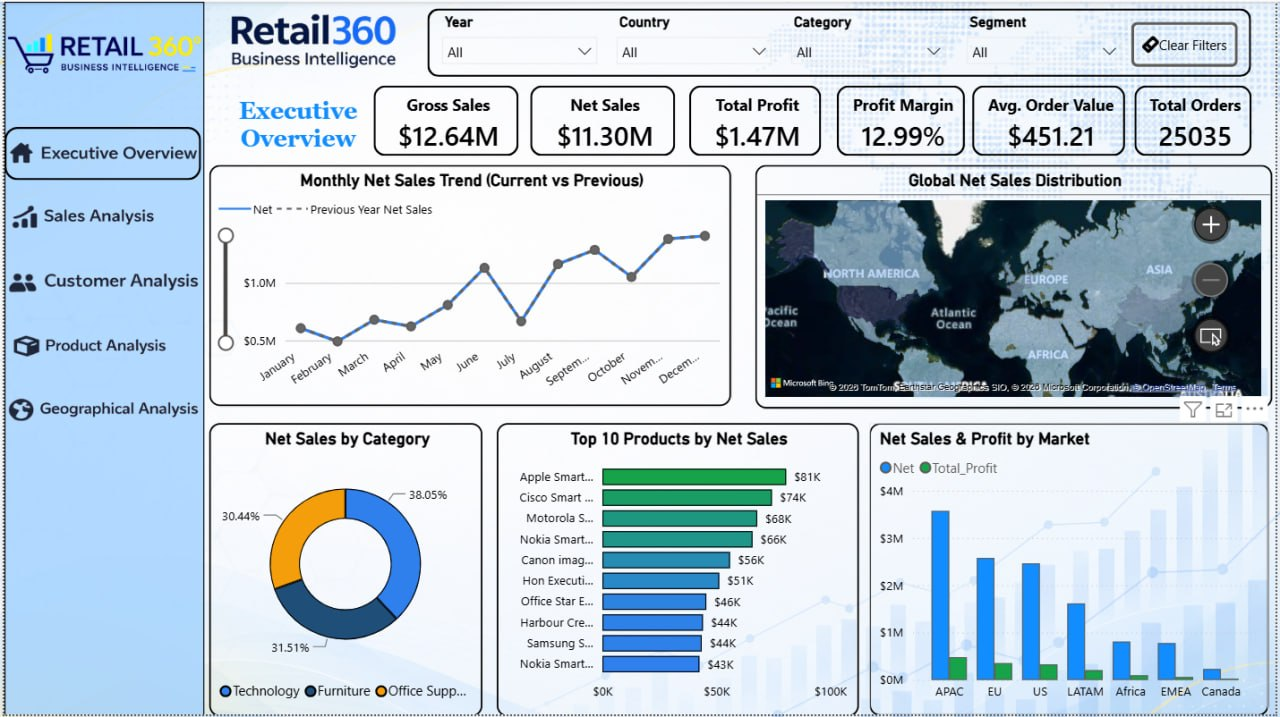

The dashboard page shown, as its layout file describes it:
{"tool":"powerbi","page":{"name":"Executive Overview","canvas":[1280,720],"ordinal":0},"visuals":[{"type":"cardVisual","fields":{"Data":["Measure_Table.Gross"]},"box":[355.6,67.6,180,105],"z":0},{"type":"cardVisual","fields":{"Data":["Measure_Table.Net"]},"box":[512.8,67.6,180,105],"z":1000},{"type":"cardVisual","fields":{"Data":["Measure_Table.Total_Profit"]},"box":[673,67.6,167.5,105],"z":2000},{"type":"cardVisual","fields":{"Data":["Measure_Table.Total Orders"]},"box":[1121.1,67.6,152.8,105],"z":3000},{"type":"cardVisual","fields":{"Data":["Measure_Table.Avg_order_value"]},"box":[958,67.6,188.1,105],"z":4000},{"type":"cardVisual","fields":{"Data":["Measure_Table.Profit Margin"]},"box":[821.4,67.6,163.1,105],"z":5000},{"type":"lineChart","title":"Monthly Net Sales Trend (Current vs Previous)","fields":{"Y":["Measure_Table.Net","Measure_Table.Previous Year Sales"],"Category":["DateTable.Month Name"]},"box":[206.6,164.6,525.8,243.6],"z":6000},{"type":"filledMap","title":"Global Net Sales Distribution","fields":{"Category":["Geography.Market Hierarchy.Region","Geography.Market Hierarchy.Country","Geography.Market Hierarchy.State","Geography.Market Hierarchy.City","Geography.Market Hierarchy.Postal Code"]},"box":[755.9,164.6,520.7,245.2],"z":7000},{"type":"donutChart","title":"Net Sales by Category","fields":{"Category":["Product.Category"],"Y":["Measure_Table.Net"]},"box":[206.6,425,275.5,295.6],"z":8000},{"type":"clusteredBarChart","title":"Top 10 Products by Net Sales","fields":{"Y":["Measure_Table.Net"],"Category":["Product.Product Name"]},"box":[495.5,425,364.5,295.6],"z":9000},{"type":"clusteredColumnChart","title":"Net Sales & Profit by Market","fields":{"Category":["Geography.Market"],"Y":["Measure_Table.Net","Measure_Table.Total_Profit"]},"box":[871.3,424.7,402.6,295.3],"z":10000},{"type":"shape","box":[425.5,6.8,829.8,68.9],"z":11000},{"type":"slicer","fields":{"Values":["Customer.Country"]},"box":[606.7,6.8,176.4,68.9],"z":12000},{"type":"slicer","fields":{"Values":["DateTable.Year"]},"box":[430.7,6.8,176.3,57.3],"z":13000},{"type":"slicer","fields":{"Values":["Product.Category"]},"box":[782.7,6.8,176.4,68.9],"z":14000},{"type":"slicer","fields":{"Values":["Customer.Segment"]},"box":[958.7,6.8,176.4,68.9],"z":15000},{"type":"actionButton","box":[1134.7,20.5,107.5,45.4],"z":16000},{"type":"shape","box":[0,0,201.3,720],"z":17000},{"type":"image","box":[195.4,10.3,230.7,58.8],"z":18000},{"type":"textbox","box":[218.9,91.1,154.3,73.5],"z":19000},{"type":"shape","box":[0,125.8,198,53.6],"z":19500},{"type":"image","box":[0,0,201.3,105.8],"z":20000},{"type":"image","box":[0,120.5,201.3,64.7],"z":21000},{"type":"image","box":[0,249.8,201.3,64.7],"z":22000},{"type":"image","box":[0,379.1,201.3,64.7],"z":23000},{"type":"image","box":[0,314.4,201.3,64.7],"z":24000},{"type":"image","box":[0,185.1,201.3,64.7],"z":26000}]}

Visuals, with their boxes on the page's 1280x720 design canvas (x1, y1, x2, y2). These are canvas units, not pixel positions in the 1280x717 screenshot, which may show the page scaled, cropped or inside an application window:
cardVisual - Measure_Table.Gross: {"x1": 356, "y1": 68, "x2": 536, "y2": 173}
cardVisual - Measure_Table.Net: {"x1": 513, "y1": 68, "x2": 693, "y2": 173}
cardVisual - Measure_Table.Total_Profit: {"x1": 673, "y1": 68, "x2": 840, "y2": 173}
cardVisual - Measure_Table.Total Orders: {"x1": 1121, "y1": 68, "x2": 1274, "y2": 173}
cardVisual - Measure_Table.Avg_order_value: {"x1": 958, "y1": 68, "x2": 1146, "y2": 173}
cardVisual - Measure_Table.Profit Margin: {"x1": 821, "y1": 68, "x2": 984, "y2": 173}
"Monthly Net Sales Trend (Current vs Previous)" lineChart: {"x1": 207, "y1": 165, "x2": 732, "y2": 408}
"Global Net Sales Distribution" filledMap: {"x1": 756, "y1": 165, "x2": 1277, "y2": 410}
"Net Sales by Category" donutChart: {"x1": 207, "y1": 425, "x2": 482, "y2": 721}
"Top 10 Products by Net Sales" clusteredBarChart: {"x1": 496, "y1": 425, "x2": 860, "y2": 721}
"Net Sales & Profit by Market" clusteredColumnChart: {"x1": 871, "y1": 425, "x2": 1274, "y2": 720}
shape: {"x1": 426, "y1": 7, "x2": 1255, "y2": 76}
slicer - Customer.Country: {"x1": 607, "y1": 7, "x2": 783, "y2": 76}
slicer - DateTable.Year: {"x1": 431, "y1": 7, "x2": 607, "y2": 64}
slicer - Product.Category: {"x1": 783, "y1": 7, "x2": 959, "y2": 76}
slicer - Customer.Segment: {"x1": 959, "y1": 7, "x2": 1135, "y2": 76}
actionButton: {"x1": 1135, "y1": 20, "x2": 1242, "y2": 66}
shape: {"x1": 0, "y1": 0, "x2": 201, "y2": 720}
image: {"x1": 195, "y1": 10, "x2": 426, "y2": 69}
textbox: {"x1": 219, "y1": 91, "x2": 373, "y2": 165}
shape: {"x1": 0, "y1": 126, "x2": 198, "y2": 179}
image: {"x1": 0, "y1": 0, "x2": 201, "y2": 106}
image: {"x1": 0, "y1": 120, "x2": 201, "y2": 185}
image: {"x1": 0, "y1": 250, "x2": 201, "y2": 314}
image: {"x1": 0, "y1": 379, "x2": 201, "y2": 444}
image: {"x1": 0, "y1": 314, "x2": 201, "y2": 379}
image: {"x1": 0, "y1": 185, "x2": 201, "y2": 250}
